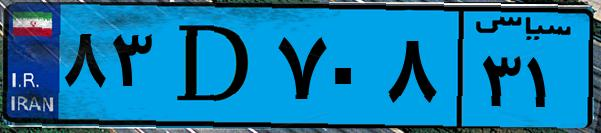0: (330, 28, 385, 110)
1: (525, 38, 570, 115)
3: (475, 38, 525, 113), (110, 28, 158, 98)
7: (270, 28, 330, 110)
8: (385, 28, 445, 110), (57, 26, 110, 100)
D: (158, 12, 270, 120)
